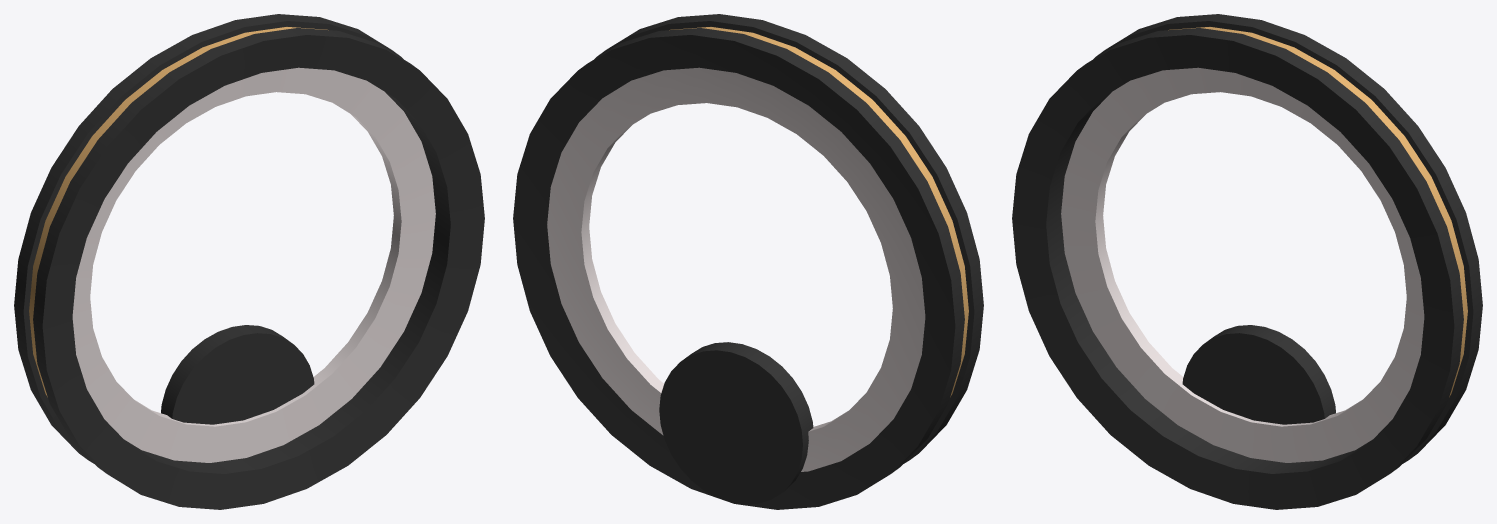
The model's file is LightWall2.fbx.
3 views of the same model, side by side, from view 1: azimuth 30°, elevation 25°; view 2: azimuth 150°, elevation 25°; view 3: azimuth 330°, elevation 25° (orthographic).
Parts seen in each view (by area): view 1: LightWall2; view 2: LightWall2; view 3: LightWall2.
Part boxes in pixels (x1=…): LightWall2: x1=14, y1=14, x2=484, y2=509; LightWall2: x1=513, y1=14, x2=983, y2=509; LightWall2: x1=1012, y1=14, x2=1482, y2=509.
Size of the model in its own units: 76.96 by 76.96 by 9.52.
